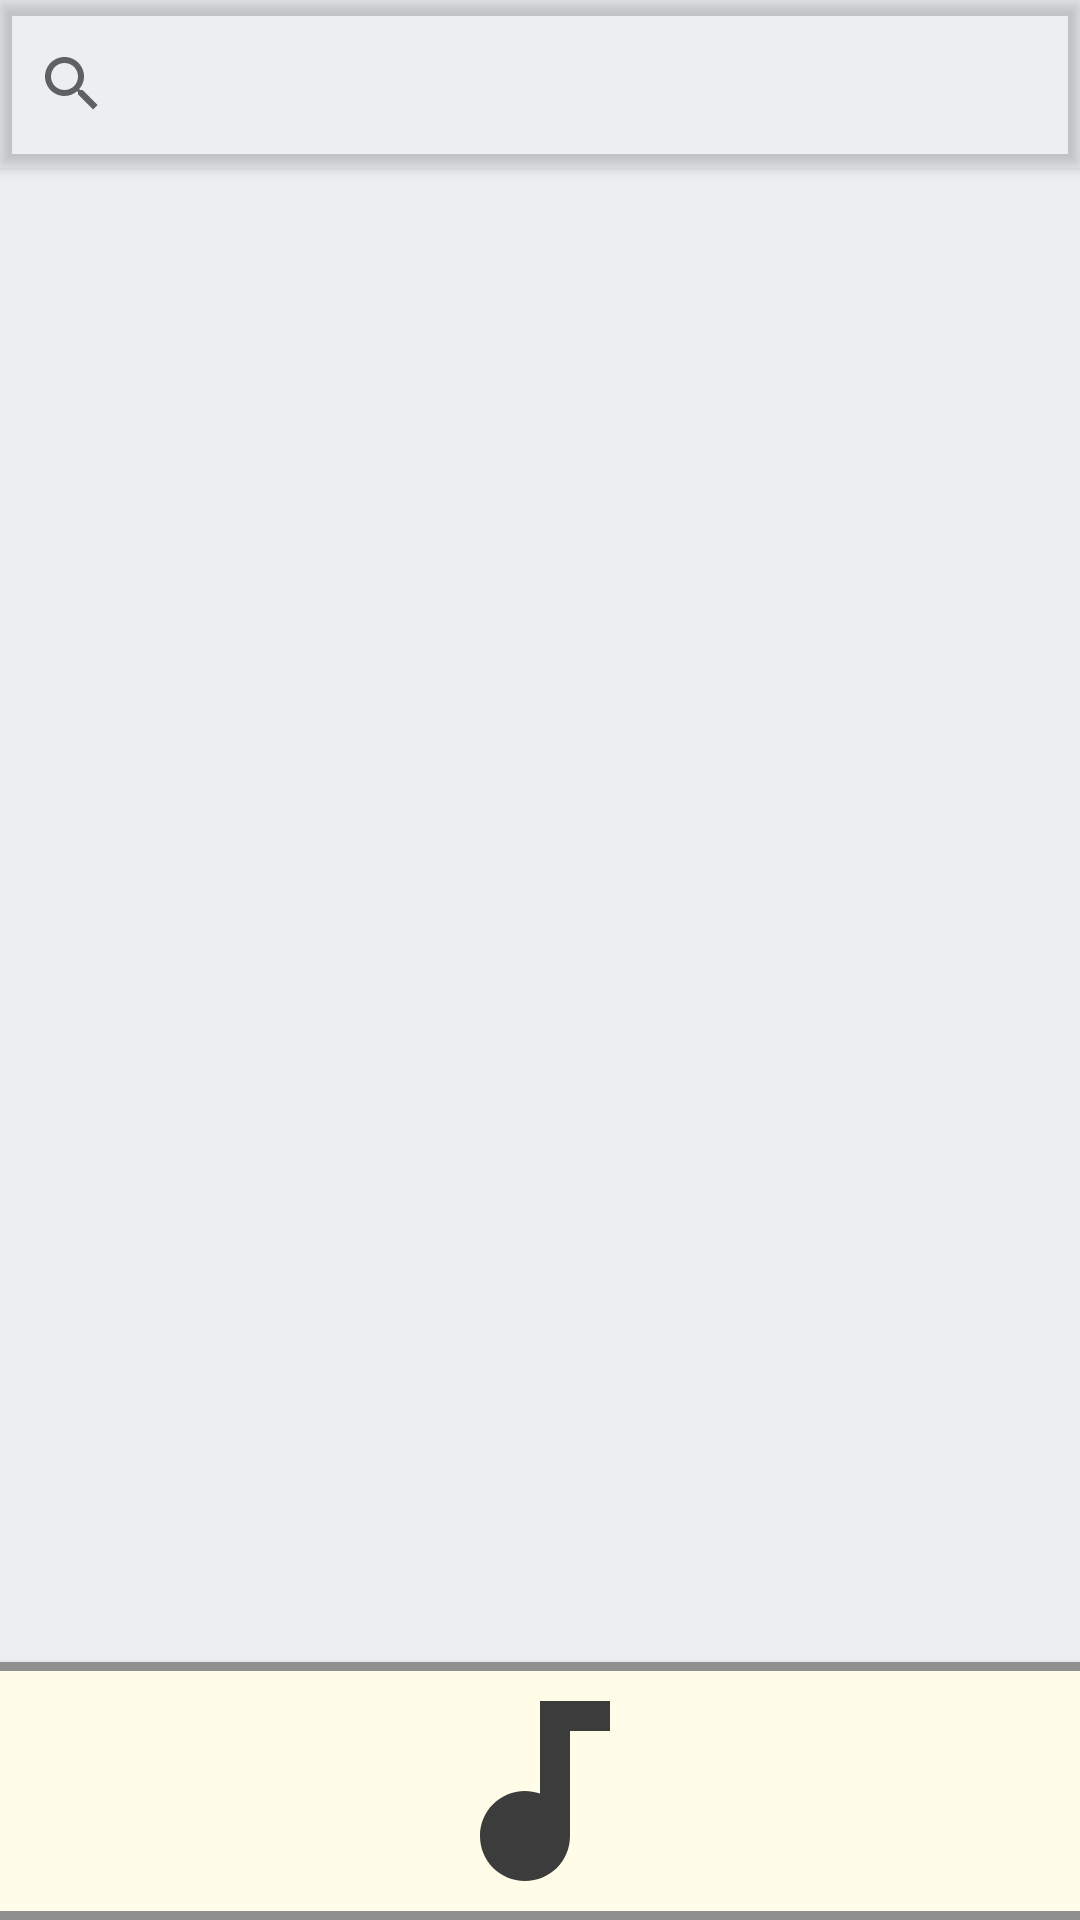

Icon bounding boxes for this 1080*1920 phone screenshot, format rect(x1, y1, x2, y2):
music note: rect(480, 1701, 610, 1881)
